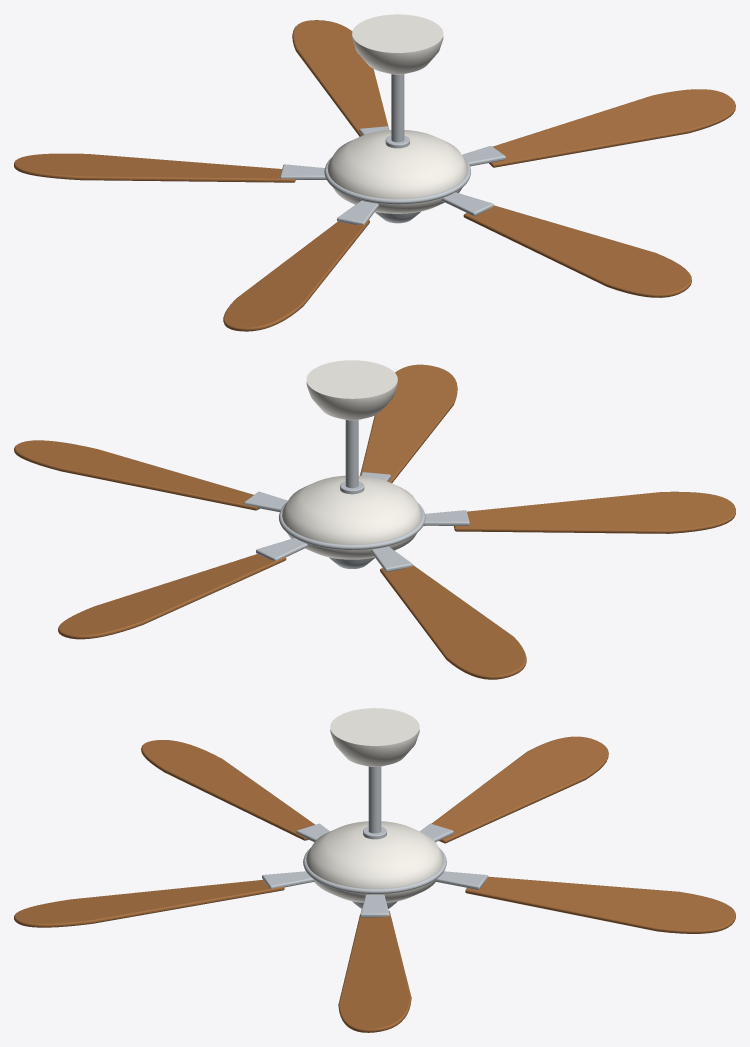
File: ceiling-fan.glb
The picture shows the model from 3 angles, top to bottom: view 1: azimuth 30°, elevation 25°; view 2: azimuth 150°, elevation 25°; view 3: azimuth 270°, elevation 25°; orthographic projection. The views are drawn at different scales.
Visible parts, largest first — view 1: blade-0, blade-4, motor, blade-3, blade-1, blade-2, canopy, trim, downrod, bracket-4, bracket-3, bracket-2 (+1 smaller); view 2: blade-3, motor, blade-2, blade-4, blade-1, blade-0, canopy, trim, downrod, bracket-1, bracket-2, bracket-3 (+1 smaller); view 3: blade-1, motor, blade-2, blade-0, blade-3, blade-4, canopy, trim, downrod, bracket-1, bracket-4, bracket-0.
Boxes of the visible parts, x1,y1,x2,y2 form: blade-0: [489, 89, 735, 167]; blade-4: [463, 205, 691, 297]; motor: [327, 130, 467, 213]; blade-3: [223, 219, 369, 331]; blade-1: [292, 20, 389, 136]; blade-2: [14, 153, 295, 182]; canopy: [352, 14, 443, 74]; trim: [324, 157, 470, 204]; downrod: [391, 74, 404, 142]; bracket-4: [441, 192, 493, 216]; bracket-3: [337, 200, 378, 224]; bracket-2: [280, 164, 326, 179]; blade-3: [454, 491, 735, 533]; motor: [282, 475, 422, 559]; blade-2: [380, 565, 526, 679]; blade-4: [360, 364, 457, 483]; blade-1: [58, 554, 286, 639]; blade-0: [14, 440, 259, 510]; canopy: [306, 360, 397, 420]; trim: [278, 503, 425, 550]; downrod: [345, 420, 358, 488]; bracket-1: [256, 538, 308, 560]; bracket-2: [370, 546, 412, 571]; bracket-3: [423, 510, 469, 525]; blade-1: [465, 876, 735, 933]; motor: [306, 821, 443, 902]; blade-2: [431, 736, 608, 843]; blade-0: [338, 911, 411, 1032]; blade-3: [141, 740, 314, 840]; blade-4: [14, 880, 284, 927]; canopy: [330, 708, 419, 766]; trim: [303, 848, 446, 894]; downrod: [368, 766, 381, 833]; bracket-1: [435, 871, 487, 889]; bracket-4: [262, 871, 314, 888]; bracket-0: [360, 894, 389, 917].
Size of the model in its own units: 1.39 by 0.402 by 1.45.
